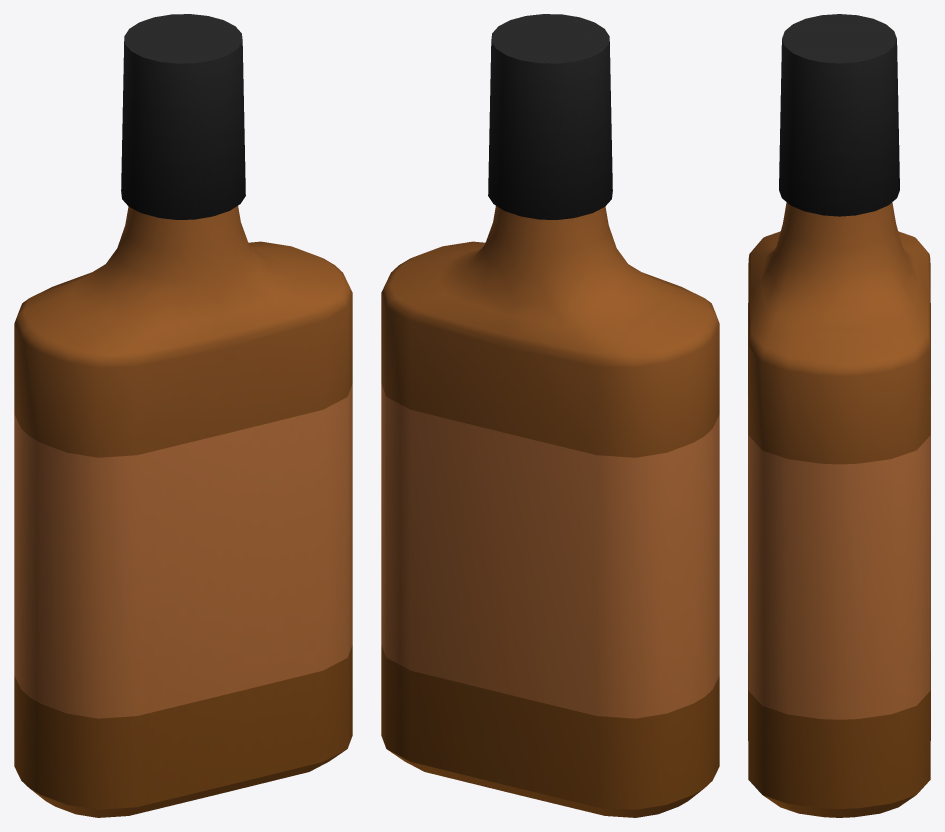
The model's file is Old Bottle.glb.
The picture shows the model from 3 angles, left to right: view 1: azimuth 30°, elevation 25°; view 2: azimuth 150°, elevation 25°; view 3: azimuth 270°, elevation 25°; orthographic projection. The views are drawn at different scales.
Visible parts, largest first — view 1: Old_Bottle; view 2: Old_Bottle; view 3: Old_Bottle.
Boxes of the visible parts, x1=… form: Old_Bottle: x1=14, y1=14, x2=352, y2=817; Old_Bottle: x1=381, y1=14, x2=719, y2=817; Old_Bottle: x1=748, y1=14, x2=930, y2=817.
Size of the model in its own units: 0.7573 by 1.71 by 0.3969.
Materials: 1 (1 with a texture image).
